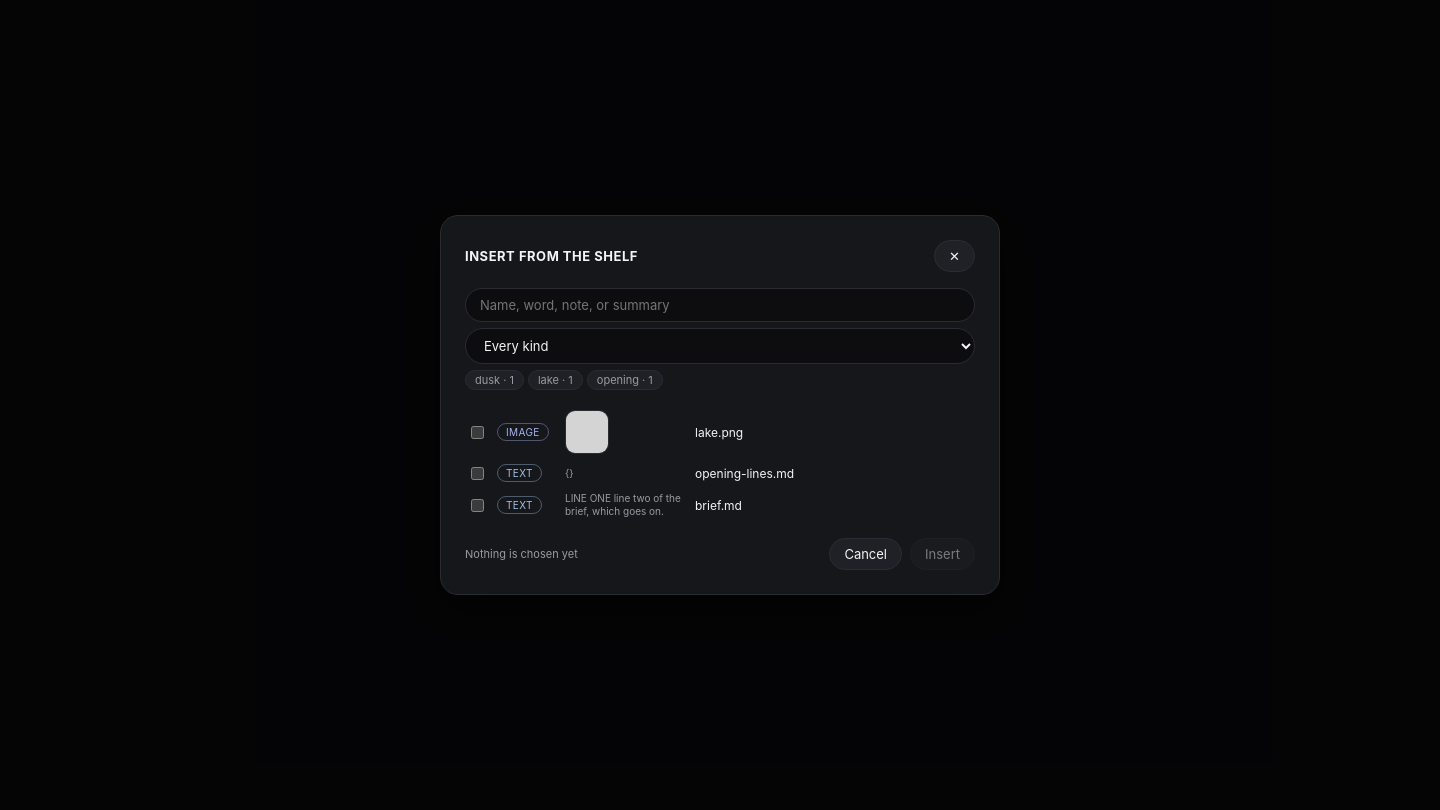
Test: the asset picker › reads a text file's opening on its row and the whole of it on a hover
Step 1. Hover over the text with test id "asset-pick-excerpt-brief-asset" → (625, 505), box top-left (565, 492), bottom-right (685, 518)
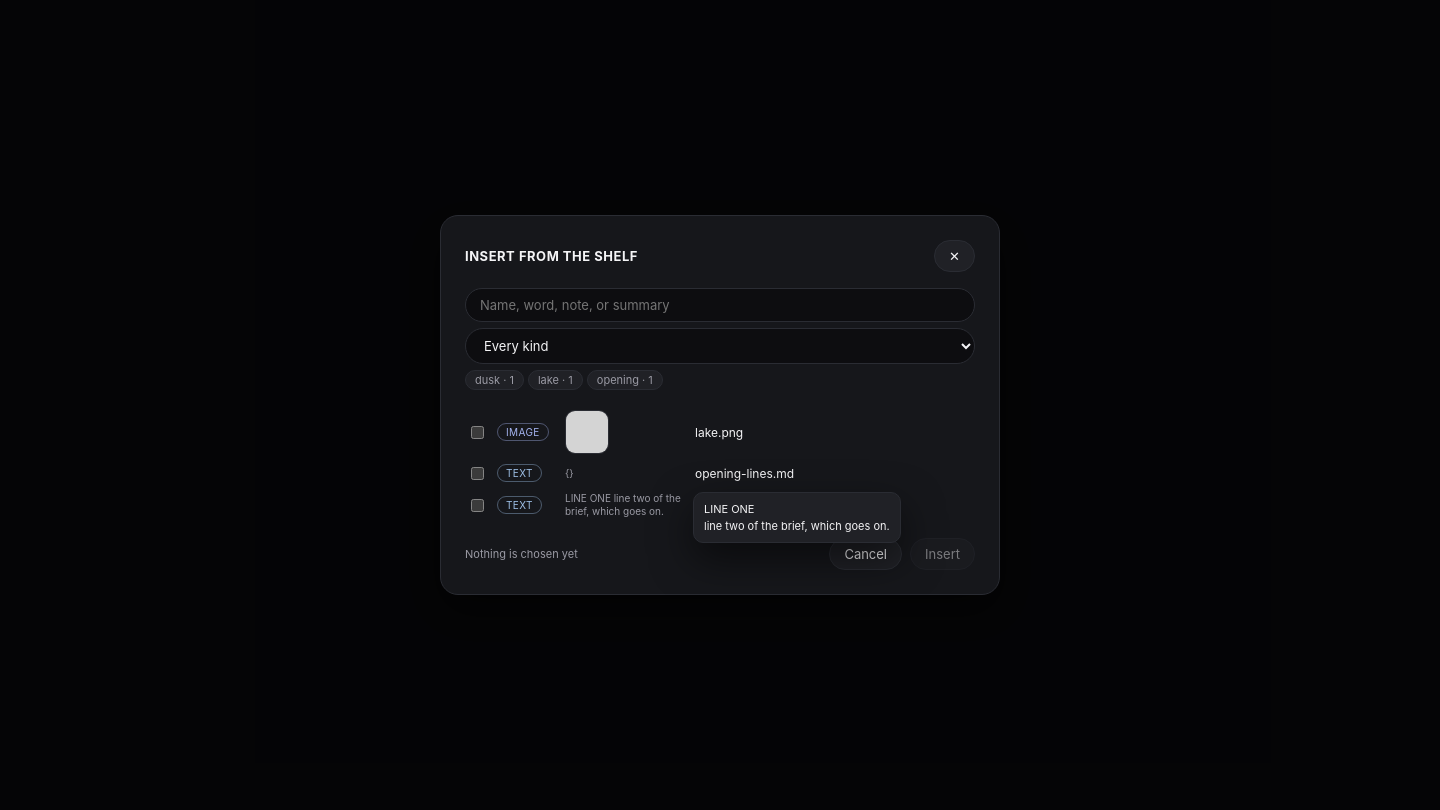
Step 2. Move the pointer off the text with test id "asset-pick-excerpt-brief-asset", box top-left (565, 492), bottom-right (685, 518)
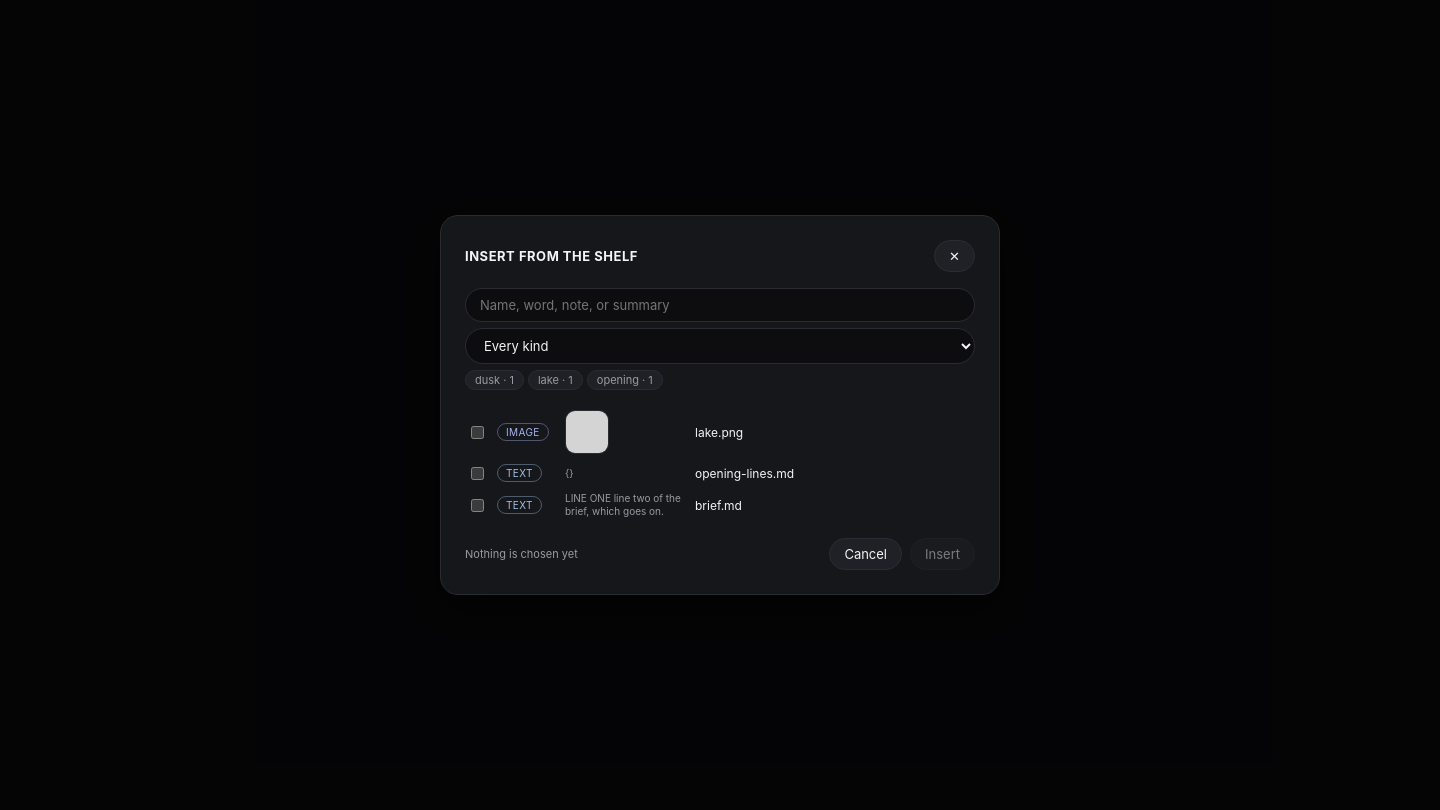
Expected: the tooltip with test id "asset-pick-words" is gone
